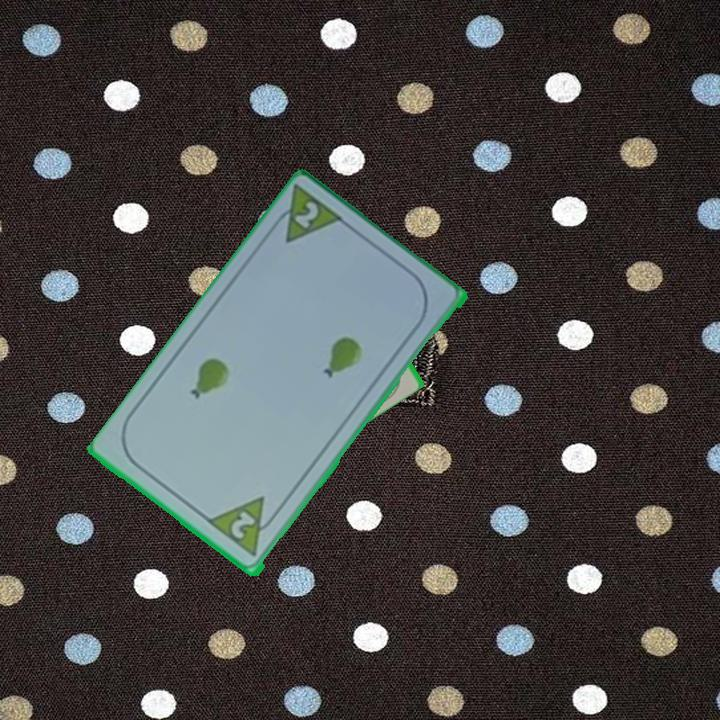2p: (265, 182, 349, 248), (227, 508, 259, 543)
